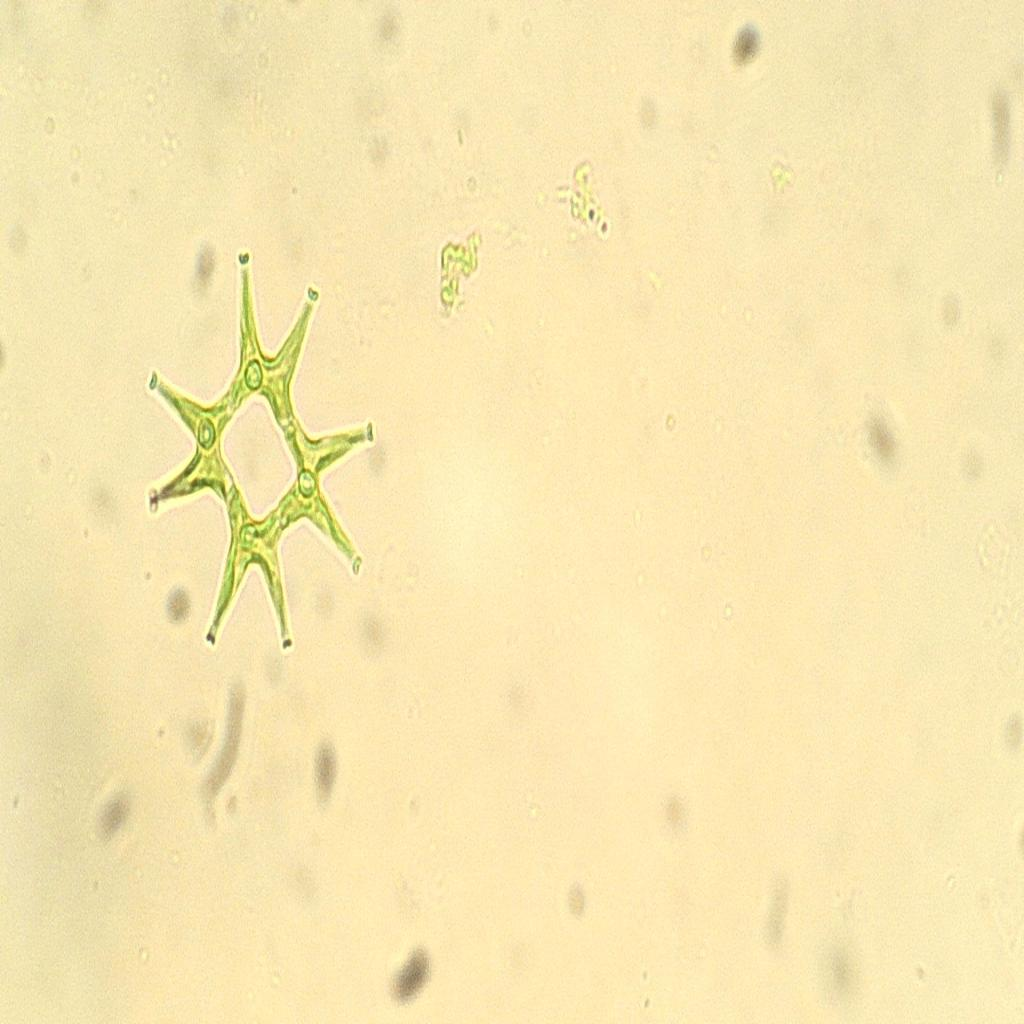Pediastrum_75O: (129, 219, 394, 674)
